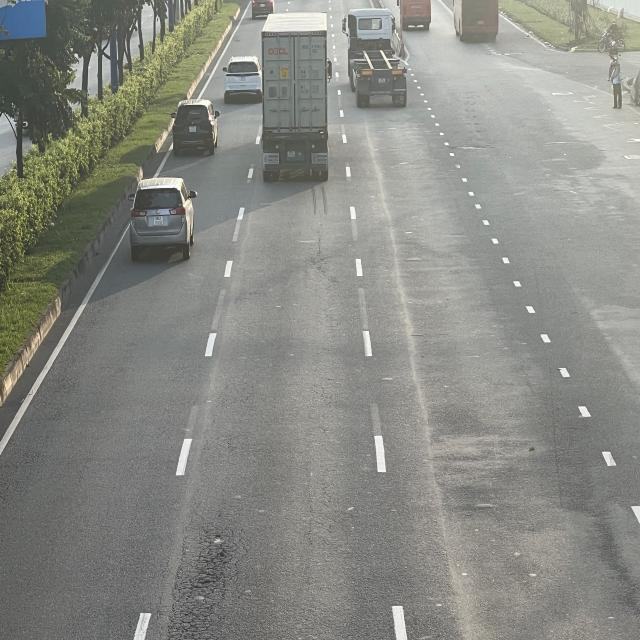car: (129, 177, 197, 261), (172, 101, 220, 157), (221, 56, 261, 102)
coach: (453, 0, 499, 42)
container: (260, 10, 329, 179), (342, 6, 408, 104)
